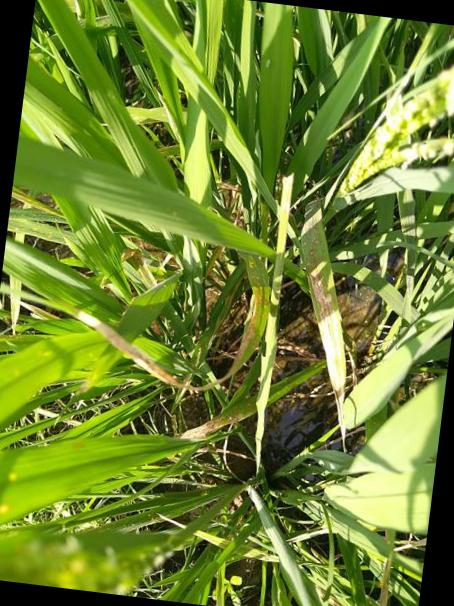Leaf Streak: (65, 276, 260, 393), (299, 212, 346, 440), (179, 398, 257, 441)
